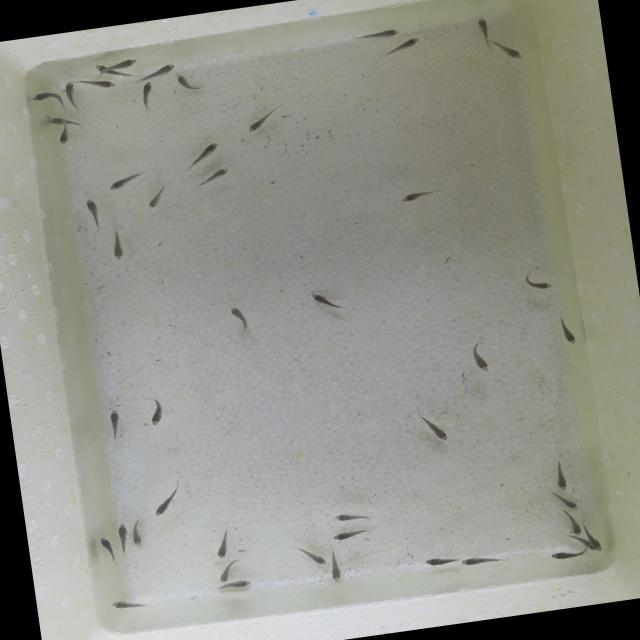fingerling: (462, 341, 496, 378), (104, 170, 144, 195), (422, 413, 452, 446), (394, 186, 441, 207), (192, 138, 223, 168), (148, 493, 182, 520), (224, 303, 254, 332), (142, 183, 172, 211), (108, 593, 146, 615), (105, 226, 128, 262), (308, 289, 342, 313), (144, 398, 170, 429), (240, 112, 273, 136), (382, 38, 424, 56), (200, 163, 234, 185), (60, 78, 82, 112), (214, 559, 244, 583), (82, 194, 104, 226), (354, 28, 400, 43), (518, 276, 556, 294), (330, 508, 372, 524), (106, 405, 124, 441), (418, 554, 464, 568), (300, 548, 329, 570), (136, 80, 157, 110), (548, 468, 572, 494), (174, 72, 201, 95), (329, 528, 368, 543), (327, 554, 345, 586), (548, 547, 589, 561), (500, 42, 526, 64), (150, 61, 180, 80), (97, 534, 117, 562), (31, 88, 58, 108), (476, 18, 494, 48), (552, 492, 580, 510), (563, 512, 583, 537), (212, 534, 231, 560), (462, 554, 502, 566), (115, 522, 131, 552), (49, 113, 80, 128), (129, 517, 145, 546), (85, 78, 116, 92), (218, 578, 254, 590), (560, 319, 576, 346), (56, 122, 72, 148), (117, 57, 143, 72), (93, 62, 114, 78), (589, 533, 603, 552)
